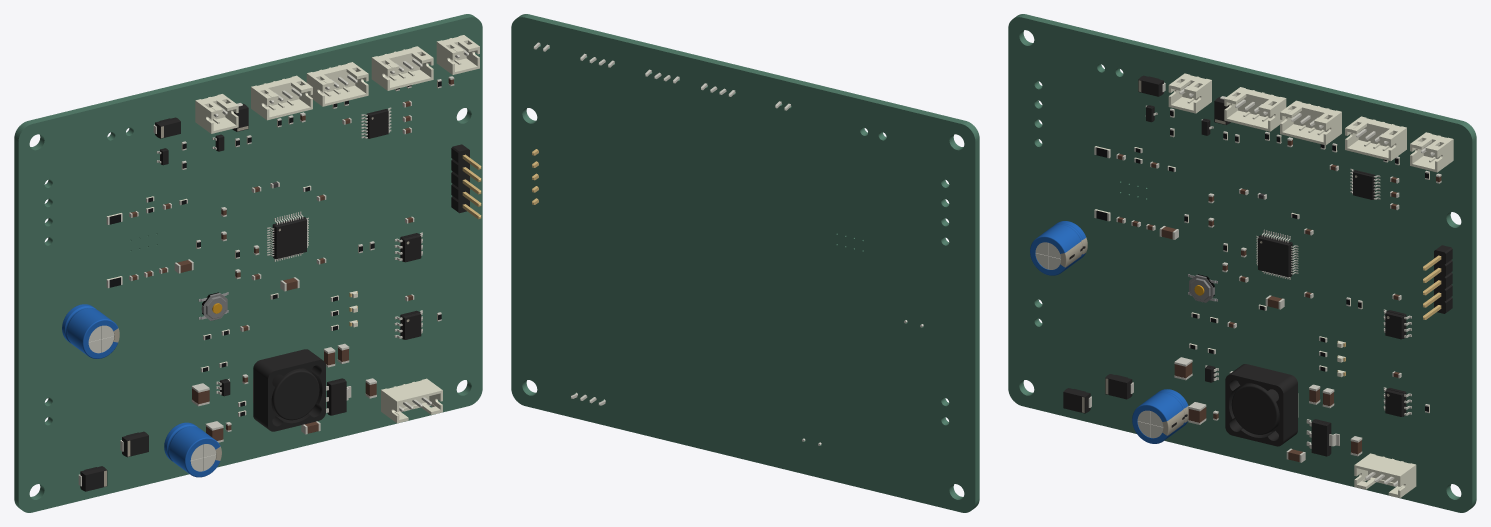
The model's file is ip1_main_board.glb.
3 views of the same model, side by side, from view 1: azimuth 30°, elevation 25°; view 2: azimuth 150°, elevation 25°; view 3: azimuth 330°, elevation 25° (orthographic).
Visible parts, largest first — view 1: =>[0:1:1:44], =>[0:1:1:17] (×4), =>[0:1:1:43], =>[0:1:1:29] (×2), =>[0:1:1:27] (×2), =>[0:1:1:3], =>[0:1:1:25], =>[0:1:1:37] (×2), =>[0:1:1:19] (×2), =>[0:1:1:23], =>[0:1:1:21], =>[0:1:1:33]; view 2: =>[0:1:1:44]; view 3: =>[0:1:1:44], =>[0:1:1:17] (×4), =>[0:1:1:43], =>[0:1:1:29] (×2), =>[0:1:1:27] (×2), =>[0:1:1:3], =>[0:1:1:25], =>[0:1:1:37] (×2), =>[0:1:1:19] (×2), =>[0:1:1:23], =>[0:1:1:21], =>[0:1:1:33].
Boxes of the visible parts, box(x1,y1,x2,y2) form: =>[0:1:1:44]: box(14, 14, 482, 512); =>[0:1:1:17] (×4): box(251, 46, 442, 423); =>[0:1:1:43]: box(253, 349, 325, 431); =>[0:1:1:29] (×2): box(62, 304, 221, 477); =>[0:1:1:27] (×2): box(195, 35, 479, 133); =>[0:1:1:3]: box(267, 211, 308, 261); =>[0:1:1:25]: box(451, 144, 481, 219); =>[0:1:1:37] (×2): box(394, 232, 422, 339); =>[0:1:1:19] (×2): box(78, 431, 148, 491); =>[0:1:1:23]: box(326, 378, 351, 415); =>[0:1:1:21]: box(361, 107, 391, 138); =>[0:1:1:33]: box(198, 292, 228, 320); =>[0:1:1:44]: box(511, 14, 979, 512); =>[0:1:1:44]: box(1008, 14, 1476, 512); =>[0:1:1:17] (×4): box(1224, 87, 1416, 497); =>[0:1:1:43]: box(1225, 364, 1298, 446); =>[0:1:1:29] (×2): box(1030, 221, 1188, 443); =>[0:1:1:27] (×2): box(1168, 73, 1453, 172); =>[0:1:1:3]: box(1256, 229, 1298, 279); =>[0:1:1:25]: box(1423, 245, 1452, 319); =>[0:1:1:37] (×2): box(1383, 309, 1411, 416); =>[0:1:1:19] (×2): box(1063, 374, 1133, 413); =>[0:1:1:23]: box(1306, 419, 1339, 456); =>[0:1:1:21]: box(1350, 169, 1380, 199); =>[0:1:1:33]: box(1188, 274, 1217, 302).
Size of the model in its own units: 0.1 by 0.08 by 0.0119.
